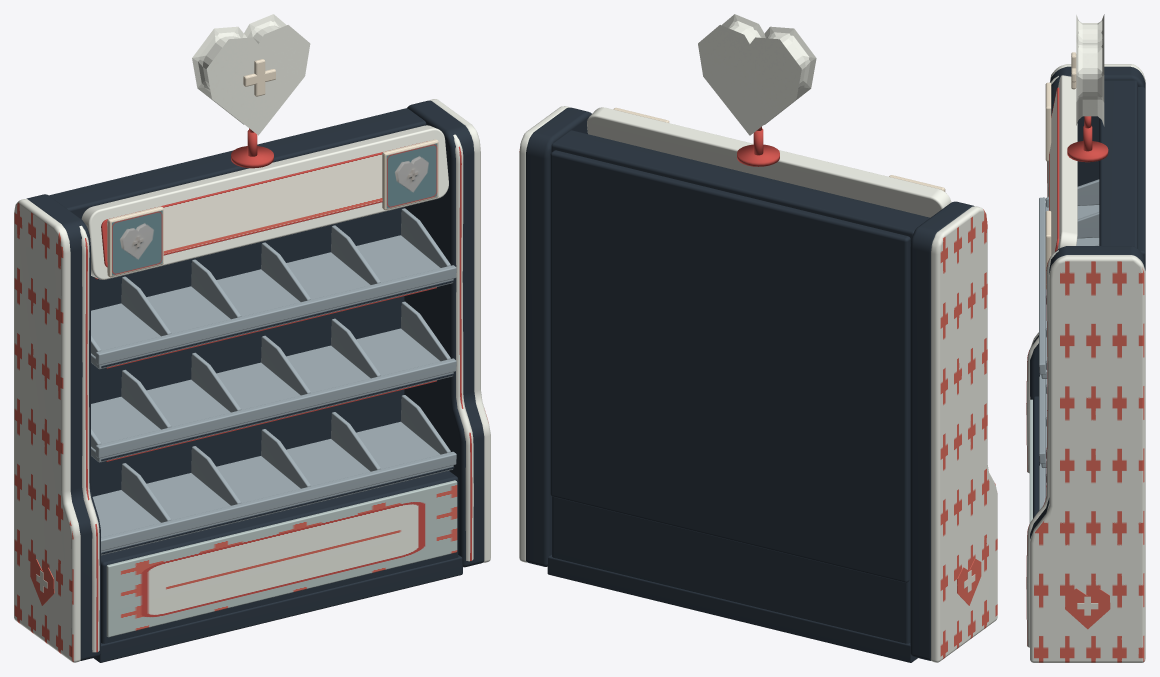
The model's file is TH_RESCUE.fbx.
The picture shows the model from 3 angles, left to right: view 1: azimuth 30°, elevation 25°; view 2: azimuth 150°, elevation 25°; view 3: azimuth 270°, elevation 25°; orthographic projection. The views are drawn at different scales.
Parts seen in each view (by area): view 1: BaseFrontInset, Left_PaintedPanel, BackPanel.001, Right_StructuralWall, Tray_01, Tray_02, Tray_03, HeaderFace, HeaderBorder, Rounded heart, TopCrossRail, Left_StructuralWall (+33 smaller); view 2: BackPanel.001, Left_PaintedPanel, ClosedSolidBase, Right_StructuralWall, HeaderBorder, Left_StructuralWall, Rounded heart, TopCrossRail, LowerPlinth, Right_PaintedPanel, TopperMount; view 3: Right_PaintedPanel, TopCrossRail, HeaderBorder, Rounded heart, Left_StructuralWall, HeaderFace, BackPanel.001, RightHousing, FrontLip_01, Relief.009, Right_StructuralWall, ClosedSolidBase (+13 smaller).
Part boxes in pixels (<box>): BaseFrontInset: <box>106,480,457,637</box>; Left_PaintedPanel: <box>14,199,80,662</box>; BackPanel.001: <box>91,207,404,496</box>; Right_StructuralWall: <box>404,100,484,567</box>; Tray_01: <box>91,235,453,369</box>; Tray_02: <box>91,328,453,462</box>; Tray_03: <box>92,421,453,555</box>; HeaderFace: <box>101,141,427,267</box>; HeaderBorder: <box>81,125,448,279</box>; Rounded heart: <box>192,14,310,135</box>; TopCrossRail: <box>49,108,426,219</box>; Left_StructuralWall: <box>26,194,100,660</box>; BackPanel.001: <box>550,150,910,582</box>; Left_PaintedPanel: <box>930,206,997,662</box>; ClosedSolidBase: <box>552,496,910,643</box>; Right_StructuralWall: <box>526,107,591,566</box>; HeaderBorder: <box>587,107,951,217</box>; Left_StructuralWall: <box>910,201,974,660</box>; Rounded heart: <box>698,14,816,135</box>; TopCrossRail: <box>551,130,929,244</box>; LowerPlinth: <box>547,555,917,662</box>; Right_PaintedPanel: <box>519,106,570,562</box>; TopperMount: <box>737,144,779,166</box>; Right_PaintedPanel: <box>1030,255,1145,662</box>; TopCrossRail: <box>1099,80,1137,248</box>; HeaderBorder: <box>1057,75,1077,249</box>; Rounded heart: <box>1076,14,1104,126</box>; Left_StructuralWall: <box>1030,66,1145,399</box>; HeaderFace: <box>1049,87,1059,255</box>; BackPanel.001: <box>1138,87,1145,261</box>; RightHousing: <box>1026,250,1058,647</box>; FrontLip_01: <box>1039,197,1045,374</box>; Relief.009: <box>1065,588,1110,629</box>; Right_StructuralWall: <box>1030,246,1145,538</box>; ClosedSolidBase: <box>1033,396,1038,518</box>.
Size of the model in its own units: 3.62 by 4.68 by 0.9273.
